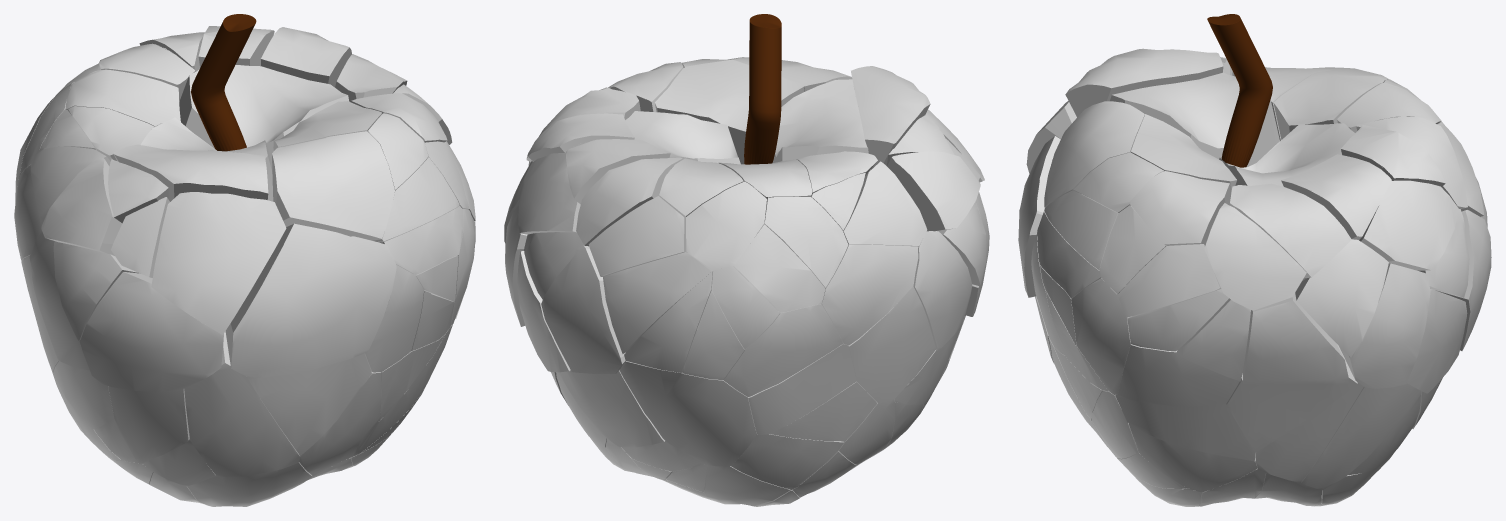
Rendered from Apple Meledak (revisi).fbx.
3 renders of one model, left to right at view 1: azimuth 30°, elevation 25°; view 2: azimuth 150°, elevation 25°; view 3: azimuth 270°, elevation 25°, orthographic. The views are drawn at different scales.
Parts seen in each view (by area): view 1: Icosphere_cell.094, Icosphere_cell.079, Icosphere_cell.035, Icosphere_cell.008, Icosphere_cell.066, Icosphere_cell.096, Icosphere_cell.054, Icosphere_cell.023, Icosphere_cell.006, Cylinder, Icosphere_cell.027, Icosphere_cell.005 (+35 smaller); view 2: Icosphere_cell.004, Icosphere_cell.049, Icosphere_cell.060, Icosphere_cell.043, Icosphere_cell.034, Icosphere_cell.089, Icosphere_cell.055, Icosphere_cell.040, Icosphere_cell.006, Icosphere_cell.062, Cylinder, Icosphere_cell.097 (+39 smaller); view 3: Icosphere_cell.033, Icosphere_cell.026, Icosphere_cell.022, Icosphere_cell.055, Icosphere_cell.025, Icosphere_cell.095, Icosphere_cell.010, Icosphere_cell.008, Icosphere_cell.023, Icosphere_cell.002, Icosphere_cell.053, Icosphere_cell.081 (+39 smaller).
Boxes of the visible parts, x1,y1,x2,y2 form: Icosphere_cell.094: (225,223,396,378); Icosphere_cell.079: (151,192,286,334); Icosphere_cell.035: (79,272,223,392); Icosphere_cell.008: (272,131,394,240); Icosphere_cell.066: (184,331,300,476); Icosphere_cell.096: (179,65,349,164); Icosphere_cell.054: (246,353,371,455); Icosphere_cell.023: (113,144,268,201); Icosphere_cell.006: (41,158,122,255); Cylinder: (191,14,256,151); Icosphere_cell.027: (108,386,189,463); Icosphere_cell.005: (65,69,180,126); Icosphere_cell.004: (619,361,756,466); Icosphere_cell.049: (541,245,625,373); Icosphere_cell.060: (821,244,918,345); Icosphere_cell.043: (848,286,935,403); Icosphere_cell.034: (723,304,843,396); Icosphere_cell.089: (603,252,713,353); Icosphere_cell.055: (772,79,870,172); Icosphere_cell.040: (655,59,804,164); Icosphere_cell.006: (887,151,980,231); Icosphere_cell.062: (686,181,766,270); Cylinder: (744,14,781,164); Icosphere_cell.097: (588,196,687,276); Icosphere_cell.033: (1242,293,1349,384); Icosphere_cell.026: (1339,263,1430,388); Icosphere_cell.022: (1204,203,1306,310); Icosphere_cell.055: (1110,72,1279,166); Icosphere_cell.025: (1359,180,1458,270); Icosphere_cell.095: (1295,239,1388,357); Icosphere_cell.010: (1230,183,1351,278); Icosphere_cell.008: (1044,101,1144,207); Icosphere_cell.023: (1065,48,1223,117); Icosphere_cell.002: (1129,171,1230,245); Icosphere_cell.053: (1301,383,1419,490); Icosphere_cell.081: (1118,344,1239,406).
Size of the model in its own units: 191 by 196 by 190.
